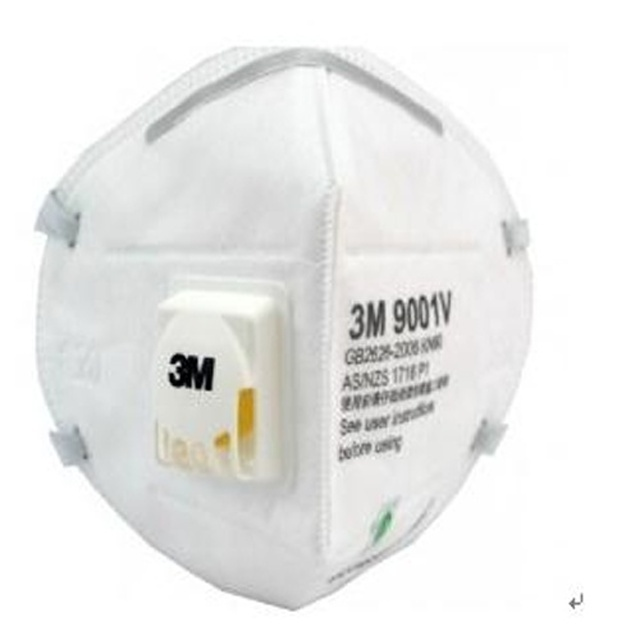mask: (28, 26, 544, 615)
